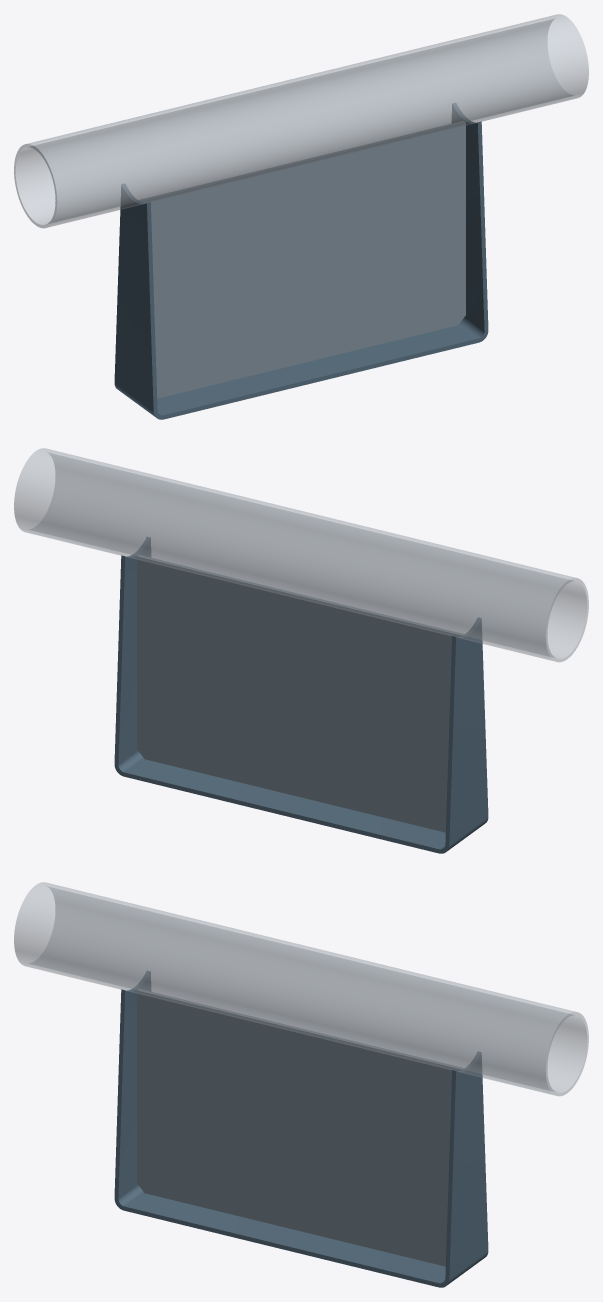
The model's file is TS-623.000-17-opora-dn76-H200-L340.glb.
The picture shows the model from 3 angles, top to bottom: view 1: azimuth 30°, elevation 25°; view 2: azimuth 150°, elevation 25°; view 3: azimuth 330°, elevation 25°; orthographic projection.
Parts seen in each view (by area): view 1: rebro, truba, skoba; view 2: rebro, truba, skoba; view 3: rebro, truba, skoba.
Boxes of the visible parts, x1,y1,x2,y2 form: rebro: (139,121,465,398); truba: (14,14,588,228); skoba: (114,103,488,419); rebro: (137,555,463,832); truba: (14,448,588,662); skoba: (114,537,488,853); rebro: (137,989,463,1266); truba: (14,882,588,1096); skoba: (114,971,488,1287).
Size of the model in its own units: 540 by 276 by 76.
